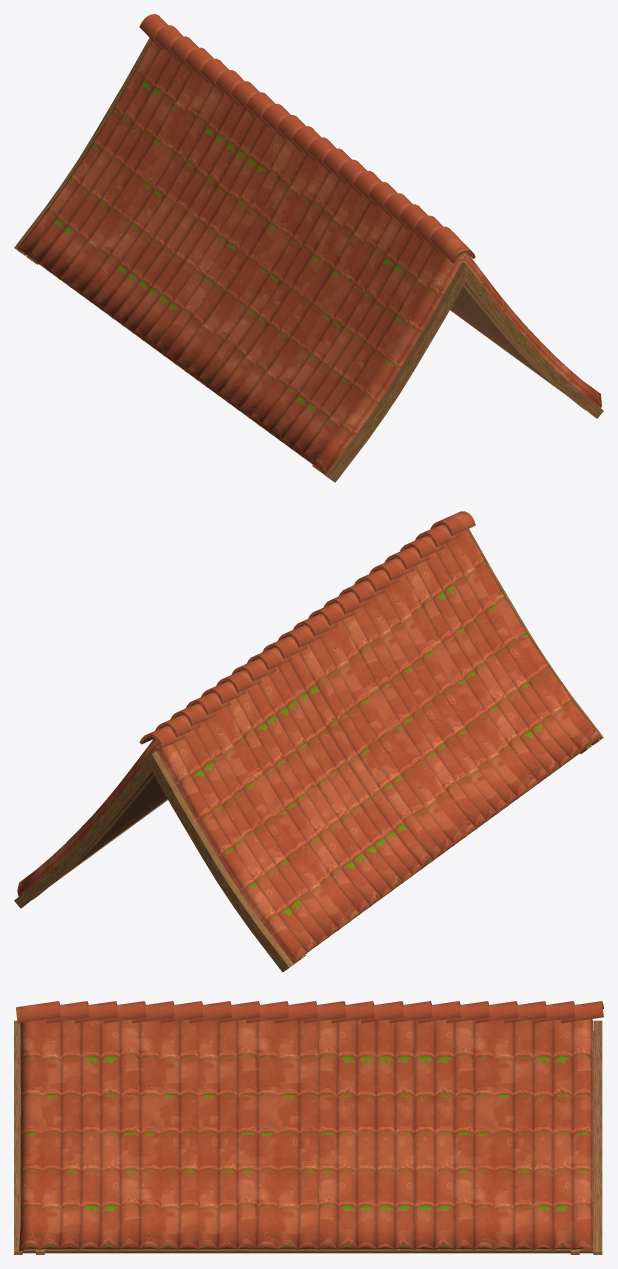
Rendered from village.glb.
The picture shows the model from 3 angles, top to bottom: view 1: azimuth 30°, elevation 25°; view 2: azimuth 150°, elevation 25°; view 3: azimuth 270°, elevation 25°; orthographic projection. The views are drawn at different scales.
Parts seen in each view (by area): view 1: Roof_RoundTiles_6x14; view 2: Roof_RoundTiles_6x14; view 3: Roof_RoundTiles_6x14.
Boxes of the visible parts, x1,y1,x2,y2 form: Roof_RoundTiles_6x14: (14, 14, 603, 482); Roof_RoundTiles_6x14: (14, 511, 603, 972); Roof_RoundTiles_6x14: (14, 1001, 603, 1254).
Bounding box in the file's own units: 8.25 × 5.67 × 15.71.
Materials: 8 (7 with a texture image).
